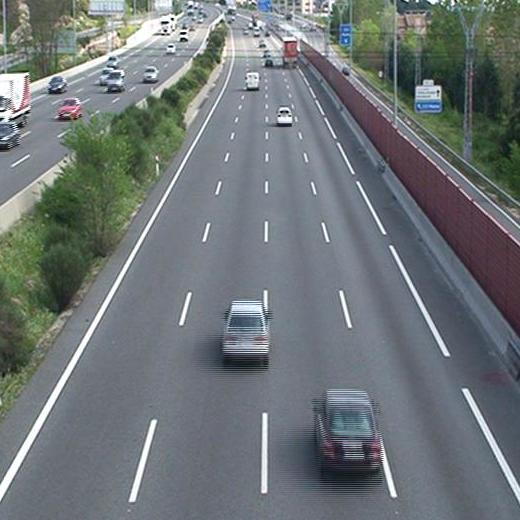car: (314, 393, 382, 474), (225, 302, 269, 360), (275, 108, 294, 127), (264, 58, 274, 69)
truck: (281, 39, 298, 68)
van: (245, 72, 260, 91)
